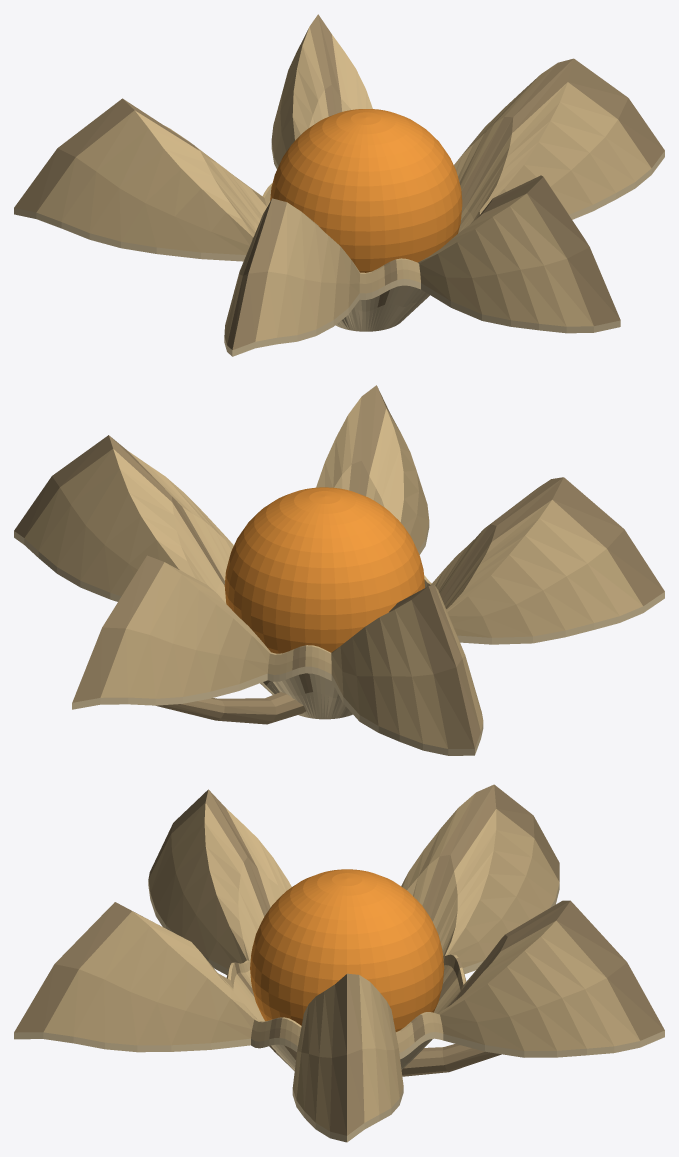
The picture shows the model from 3 angles, top to bottom: view 1: azimuth 30°, elevation 25°; view 2: azimuth 150°, elevation 25°; view 3: azimuth 270°, elevation 25°; orthographic projection. The views are drawn at different scales.
Visible parts, largest first — view 1: WholeConnectedOpenedPaperyCalyx, WholeGloboseGoldenBerry; view 2: WholeConnectedOpenedPaperyCalyx, WholeGloboseGoldenBerry, WholeShortBentFruitPedicel; view 3: WholeConnectedOpenedPaperyCalyx, WholeGloboseGoldenBerry, WholeShortBentFruitPedicel.
Part boxes in pixels (x1,y1,x2,y2): WholeConnectedOpenedPaperyCalyx: (14, 14, 664, 356); WholeGloboseGoldenBerry: (270, 109, 462, 272); WholeConnectedOpenedPaperyCalyx: (14, 385, 664, 755); WholeGloboseGoldenBerry: (224, 487, 424, 653); WholeShortBentFruitPedicel: (156, 692, 305, 724); WholeConnectedOpenedPaperyCalyx: (14, 784, 664, 1142); WholeGloboseGoldenBerry: (250, 869, 444, 1031); WholeShortBentFruitPedicel: (401, 1044, 501, 1076).
Bounding box in the file's own units: 0.0651 × 0.0235 × 0.0657.
